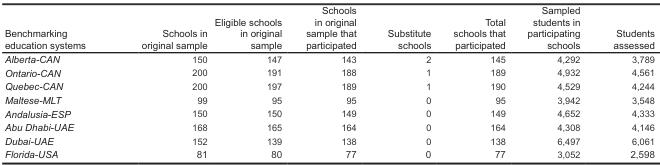table: (3, 3, 653, 159)
table column: (3, 3, 112, 159), (112, 3, 210, 159), (210, 3, 293, 159), (515, 3, 595, 159), (293, 3, 371, 159), (441, 3, 515, 159), (371, 3, 441, 159), (595, 3, 653, 159)
table column header: (3, 3, 653, 51)
table row: (3, 3, 653, 51), (3, 51, 653, 65), (3, 65, 653, 79), (3, 92, 653, 106), (3, 106, 653, 120), (3, 133, 653, 147), (3, 79, 653, 92), (3, 120, 653, 133), (3, 147, 653, 159)
